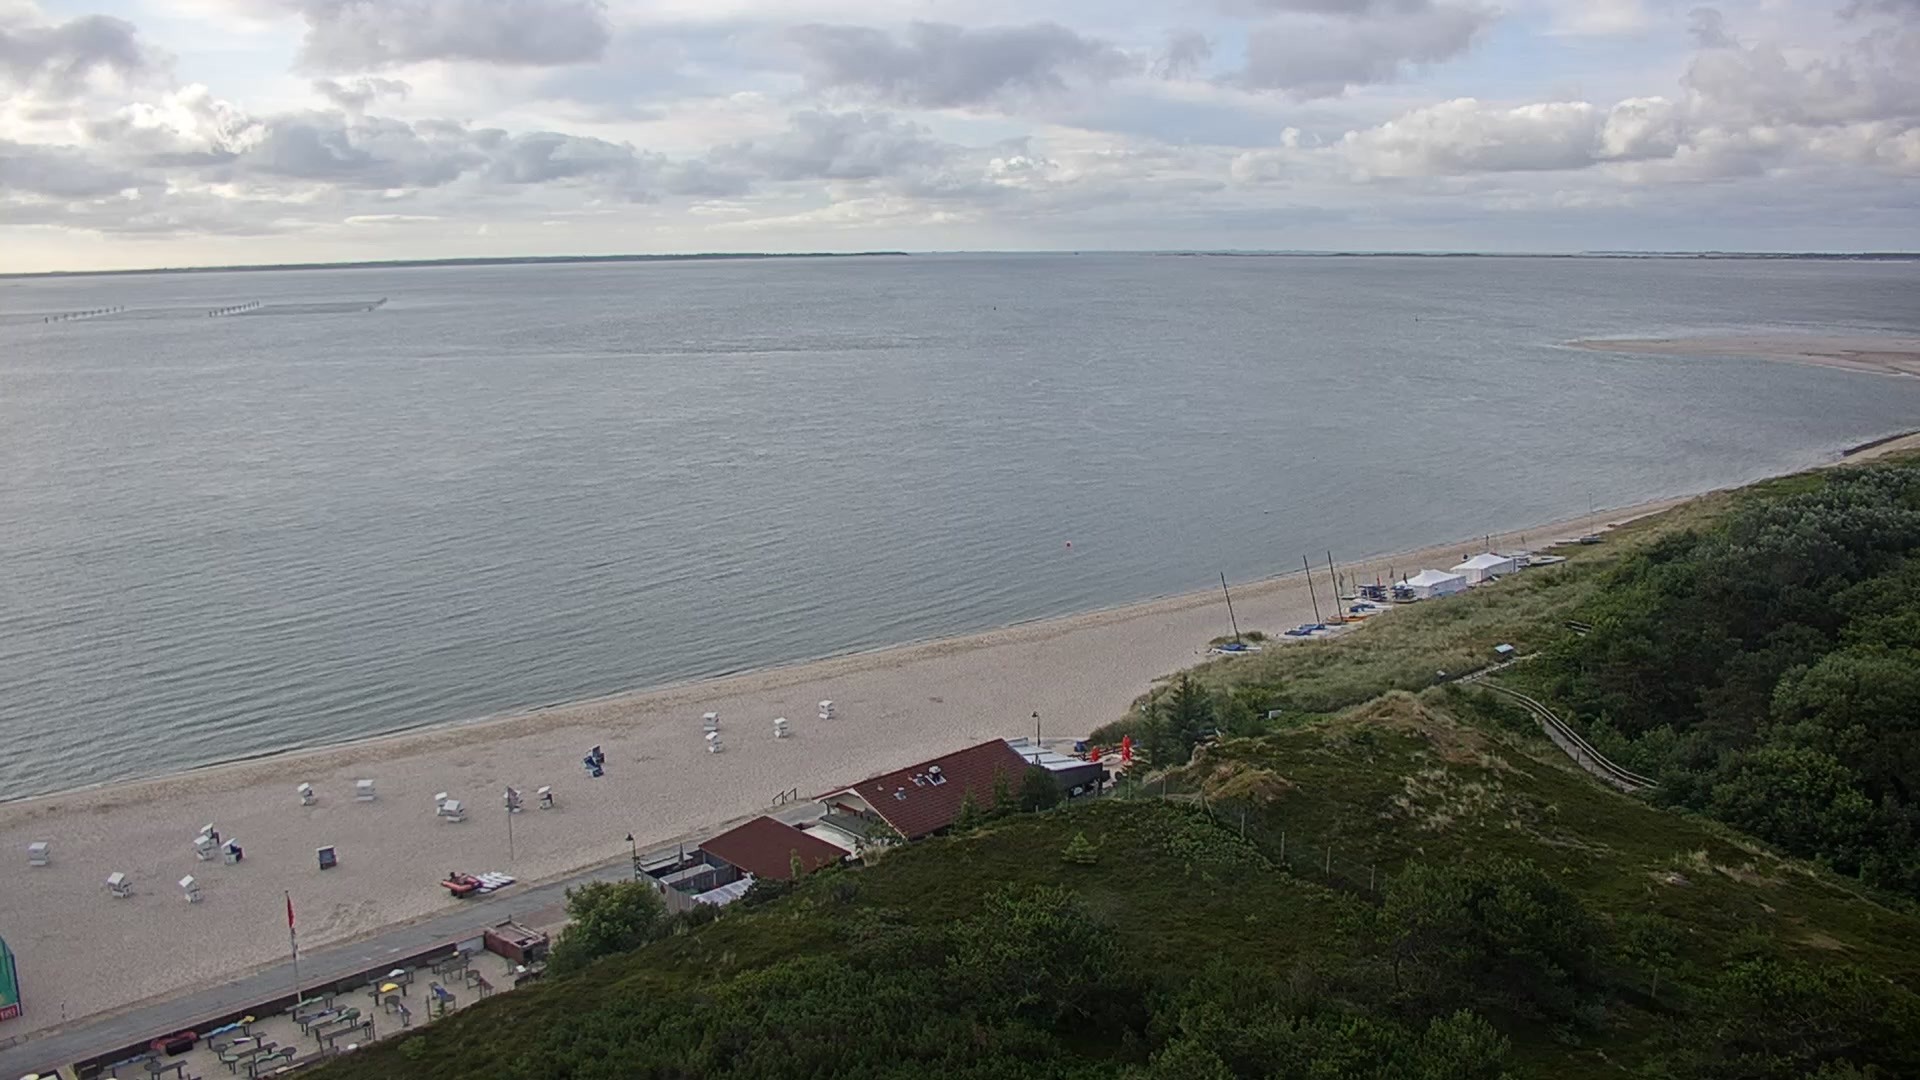sea: (1340, 533, 1393, 615), (1211, 571, 1261, 655), (1296, 553, 1341, 636), (1315, 550, 1360, 628), (440, 872, 483, 893)
